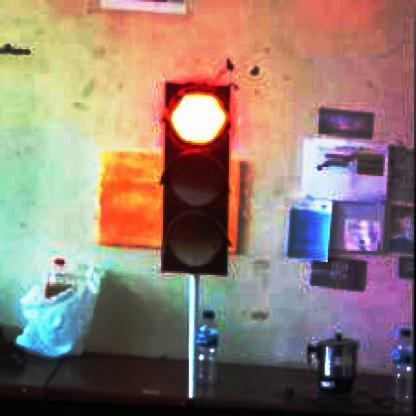Traffic Light -Red-: (162, 84, 230, 279)
